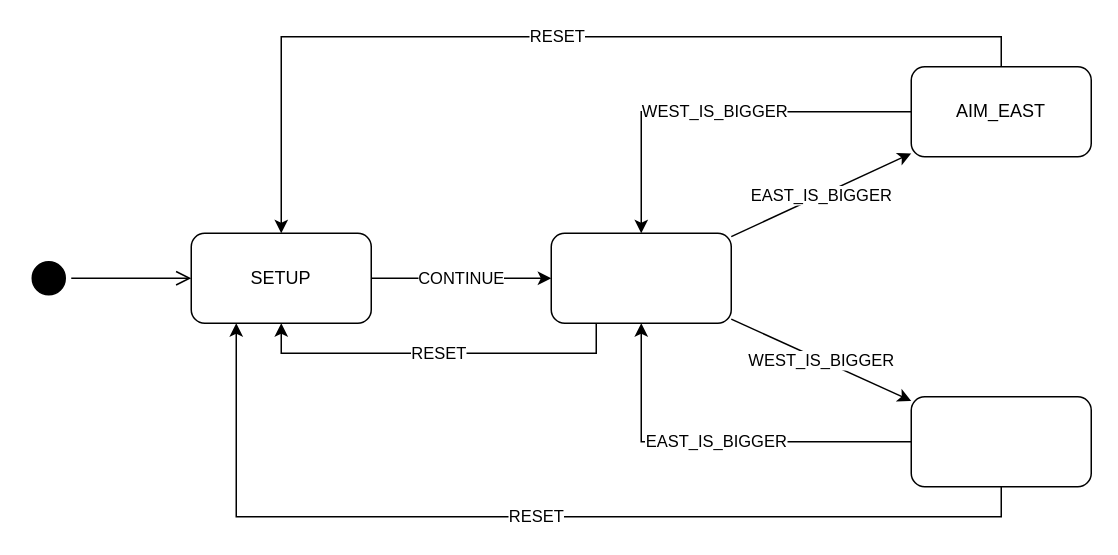
The diagram is 1118 pixels wide and 555 high, and some of its shapes have lost their labels. Each missing label, with the centre of its shape:
"AIM_WEST" goes at point 1000,441.
"AIM_ZENITH" goes at point 640,277.
